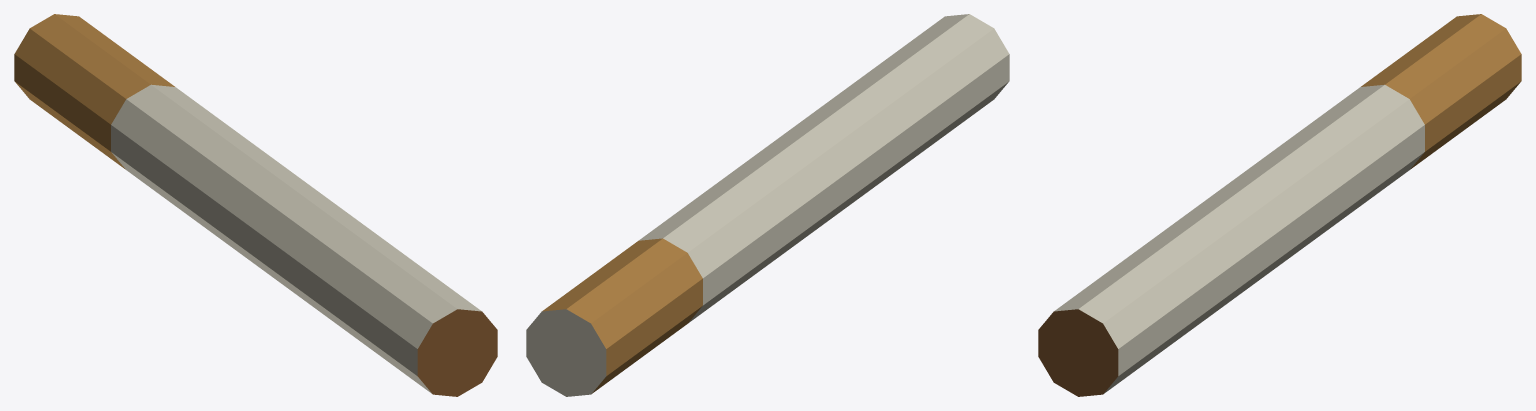
Rendered from cig.fbx.
3 renders of one model, left to right at view 1: azimuth 30°, elevation 25°; view 2: azimuth 150°, elevation 25°; view 3: azimuth 330°, elevation 25°, orthographic.
Parts seen in each view (by area): view 1: Cig; view 2: Cig; view 3: Cig.
Boxes of the visible parts, left/top/right/bottom form: Cig: left=14, top=14, right=497, bottom=396; Cig: left=526, top=14, right=1009, bottom=396; Cig: left=1038, top=14, right=1521, bottom=396.
Bounding box in the file's own units: 17.54 × 18.44 × 153.
